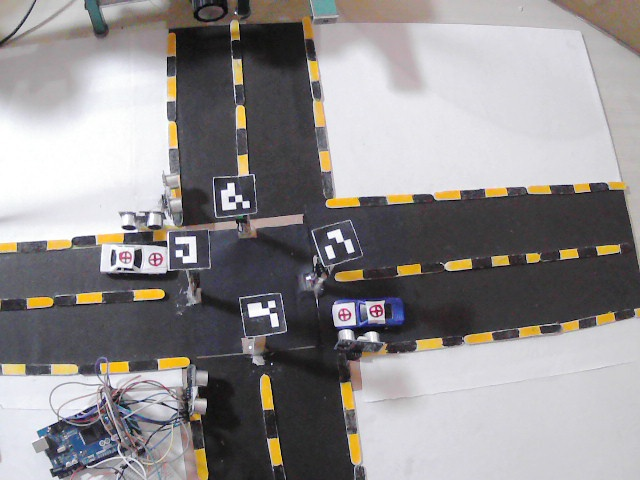aruco_marker: (307, 219, 364, 267), (212, 174, 257, 219), (239, 291, 283, 335), (168, 230, 209, 270)
emergency_vehicle: (332, 294, 406, 332), (100, 244, 170, 279)
uno_breadboard: (33, 388, 142, 477), (97, 442, 182, 480), (183, 363, 212, 420), (333, 331, 384, 363), (120, 209, 166, 232), (163, 171, 183, 216)
